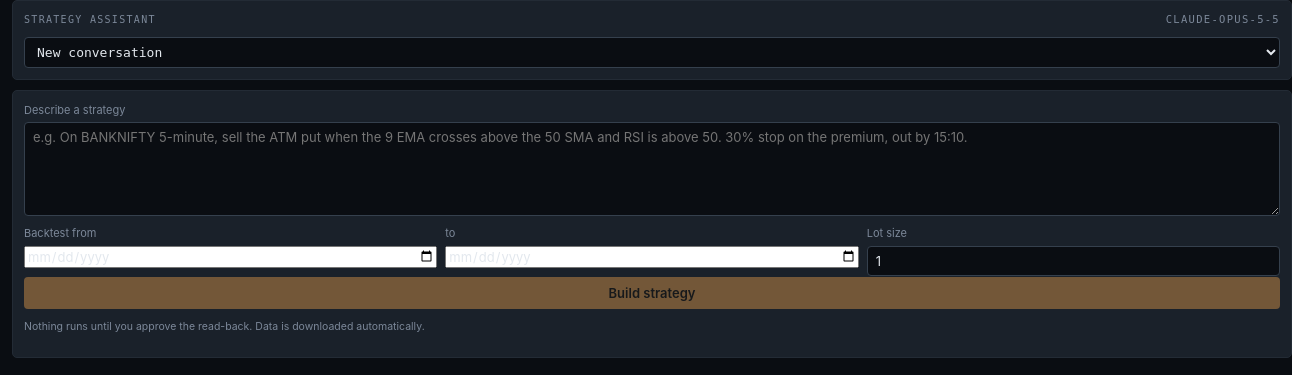
Test case: Assistant › offers to continue a turn that was cut off
Later steps or results of the test are not shown.
Select "EMA" in the dropdown at (652, 52), box [24,37,1280,68]
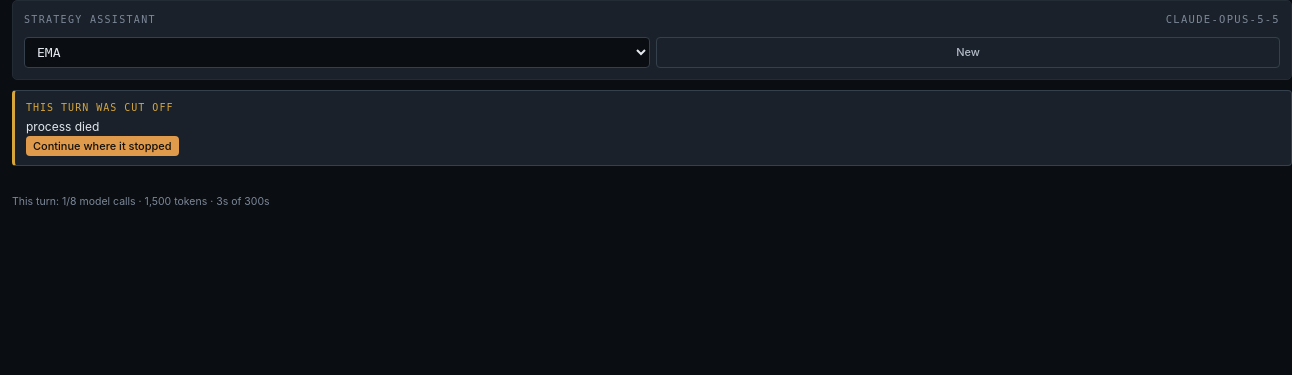
Expected: the text "process died" is shown, [26,119,99,134]
